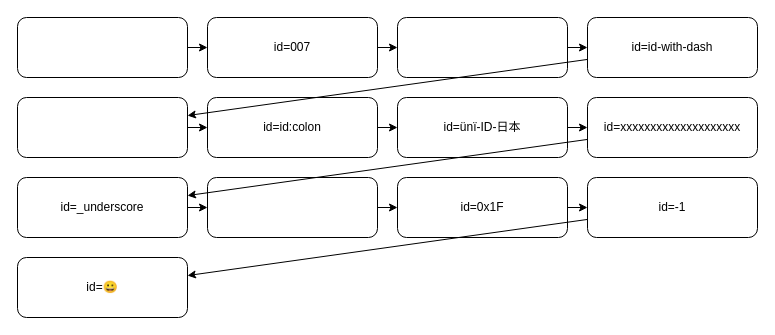
Image size: 775x335. Some labels were removed from this diagram. Each missing label, with the centre of its shape:
"id=7" belongs at (482,47).
"id=a" belongs at (102,47).
"id=a b c" belongs at (292,207).
"id=id.with.dots" belongs at (102,127).
